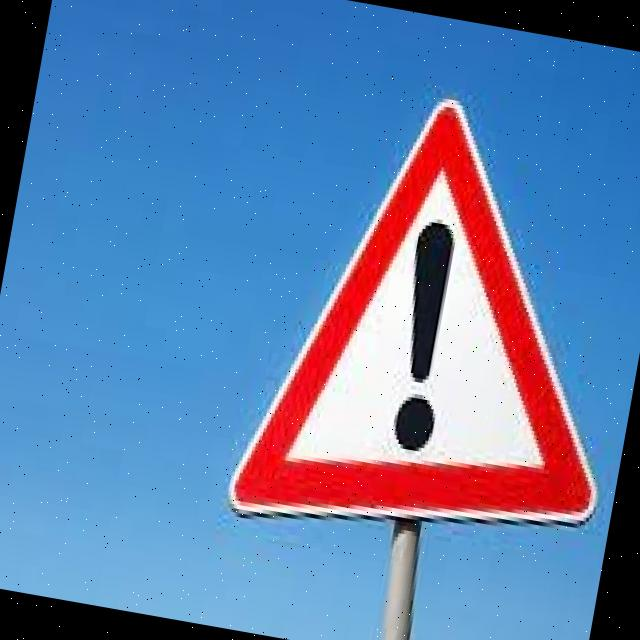warning: (187, 41, 640, 606)
